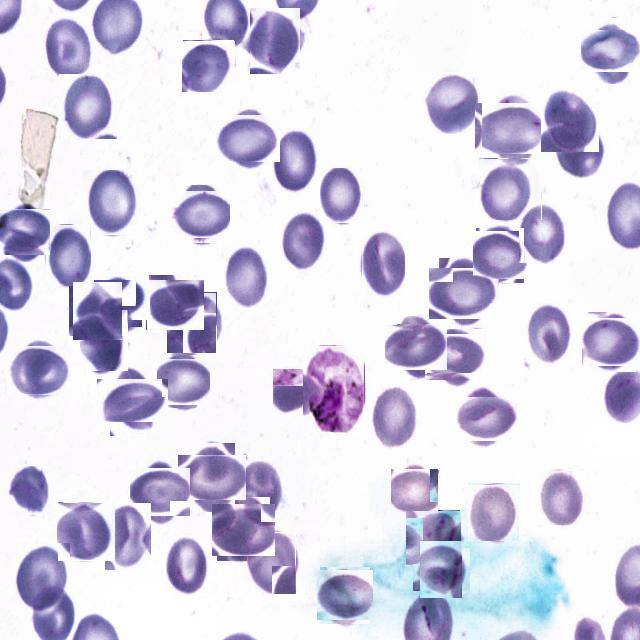difficult: (303, 345, 365, 432)
red blood cell: (481, 96, 543, 160), (479, 158, 542, 220), (14, 543, 70, 612), (59, 74, 117, 139), (434, 263, 495, 324), (418, 72, 478, 134), (541, 88, 599, 152), (83, 170, 139, 235), (58, 502, 116, 560), (246, 13, 304, 70), (103, 372, 161, 429), (215, 501, 272, 558), (184, 449, 241, 506), (10, 342, 68, 398), (220, 110, 276, 166), (105, 503, 151, 570), (167, 292, 217, 353), (247, 532, 296, 594), (458, 391, 513, 446), (550, 129, 607, 182), (468, 484, 520, 542), (389, 320, 444, 374), (362, 230, 405, 299), (80, 310, 128, 371), (429, 330, 483, 384), (133, 466, 187, 520), (148, 278, 202, 332), (318, 568, 372, 622), (585, 315, 639, 369), (406, 510, 460, 564), (71, 284, 125, 338), (587, 23, 640, 78), (224, 245, 270, 308), (45, 17, 90, 80), (182, 41, 235, 94), (46, 224, 91, 286), (526, 307, 572, 367), (175, 188, 228, 240), (370, 389, 416, 448), (474, 230, 526, 282), (519, 207, 567, 263), (165, 536, 209, 597), (278, 209, 323, 267), (538, 470, 584, 526), (271, 134, 316, 191), (158, 356, 208, 406), (416, 544, 466, 594), (0, 206, 49, 257), (237, 462, 280, 518), (320, 168, 362, 223), (98, 276, 146, 324), (391, 469, 438, 518), (7, 465, 52, 515), (272, 371, 318, 418)
